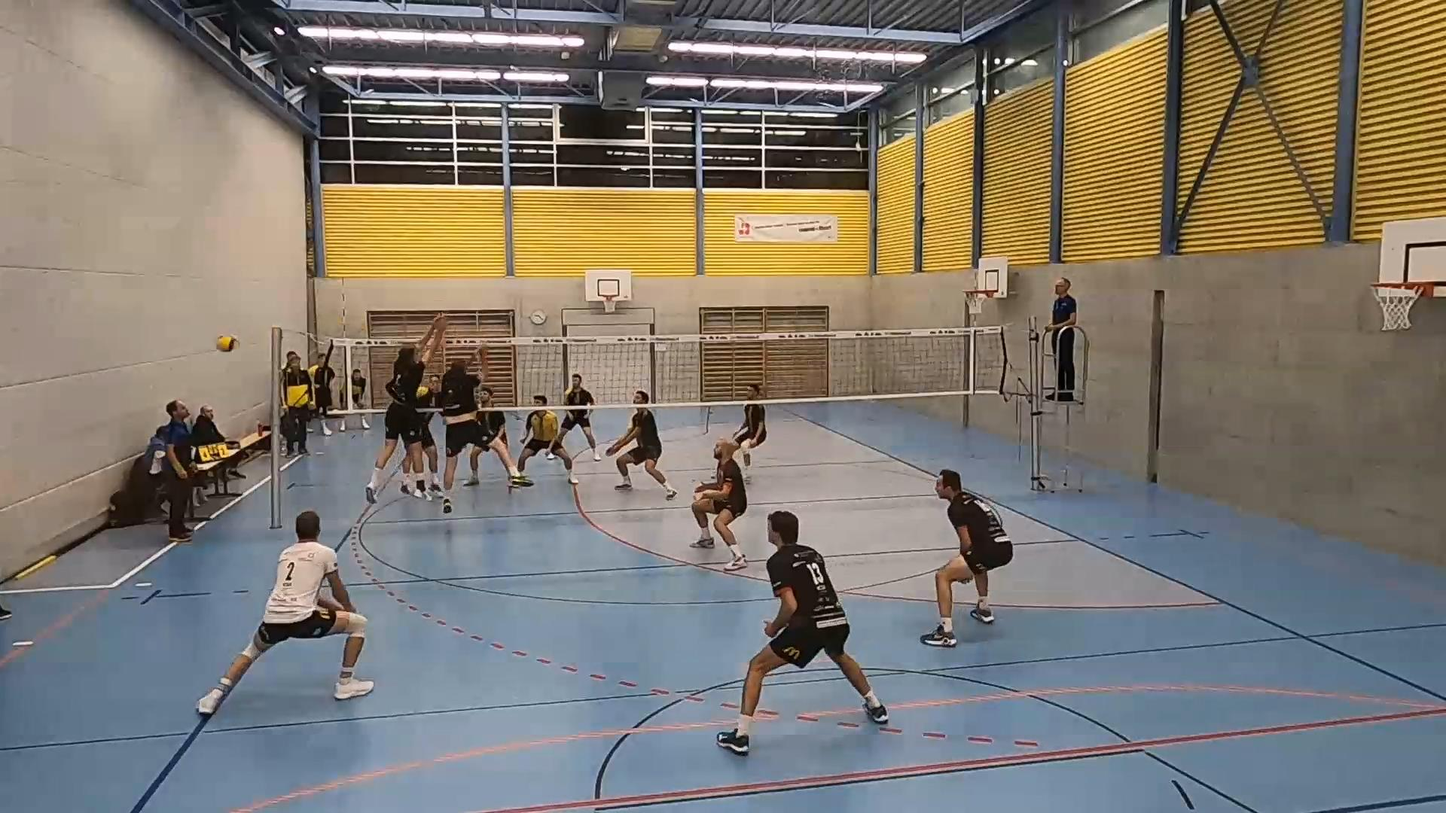Block: (437, 343, 540, 516), (366, 312, 449, 507)
Player: (716, 511, 888, 754), (198, 511, 371, 714), (920, 470, 1012, 647), (606, 391, 677, 499), (691, 438, 747, 571), (463, 385, 531, 489), (517, 394, 578, 485), (400, 376, 442, 501), (550, 374, 601, 461), (733, 403, 766, 480)
ball: (218, 338, 239, 352)
